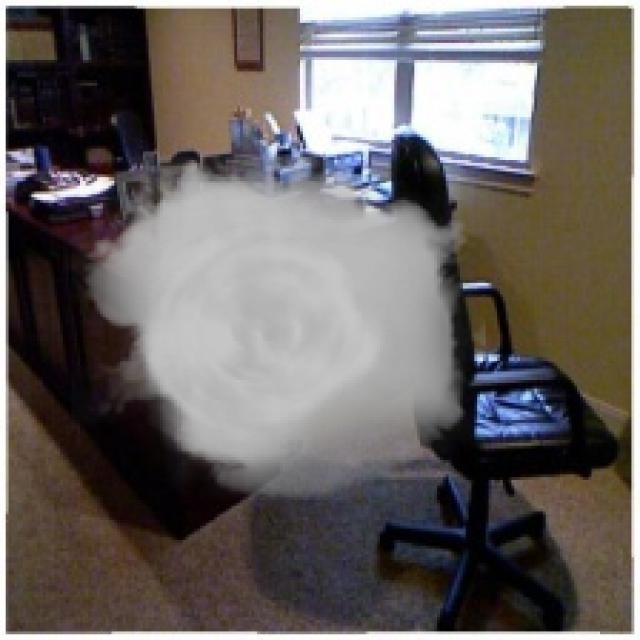smoke: (71, 154, 486, 500)
